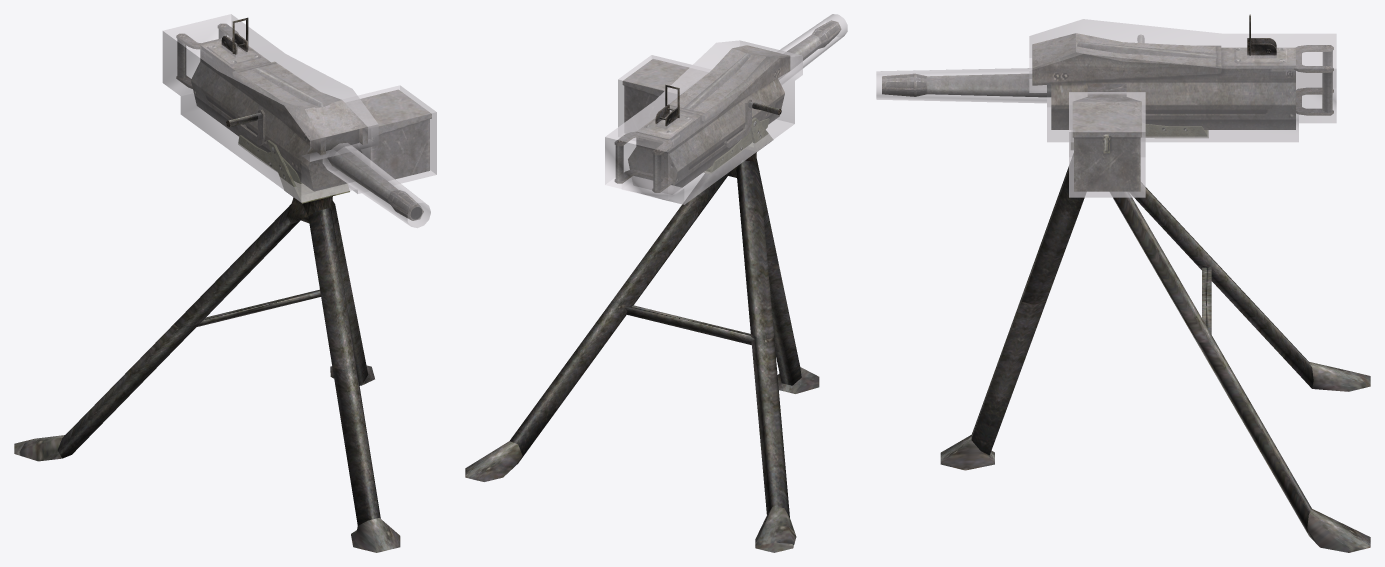
3 renders of one model, left to right at view 1: azimuth 30°, elevation 25°; view 2: azimuth 150°, elevation 25°; view 3: azimuth 270°, elevation 25°, orthographic. The views are drawn at different scales.
Parts seen in each view (by area): view 1: _MK19D; view 2: _MK19D; view 3: _MK19D.
Boxes of the visible parts, x1=… form: _MK19D: x1=14, y1=14, x2=436, y2=552; _MK19D: x1=465, y1=14, x2=847, y2=552; _MK19D: x1=876, y1=14, x2=1370, y2=552.
Size of the model in its own units: 1.24 by 1.41 by 1.42.
2 materials, 2 textured.
